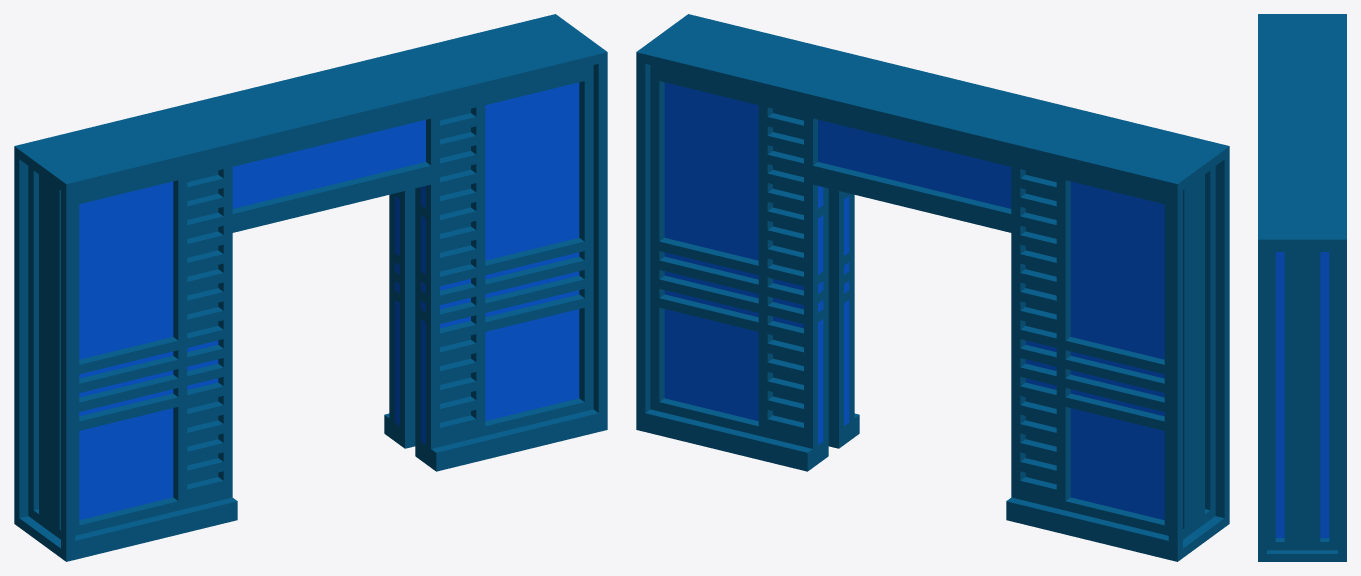
File: Blue Doorway.obj
3 renders of one model, left to right at view 1: azimuth 30°, elevation 25°; view 2: azimuth 150°, elevation 25°; view 3: azimuth 270°, elevation 25°, orthographic. The views are drawn at different scales.
Bounding box in the file's own units: 60 × 40 × 10.
Materials: 1 (1 with a texture image).
